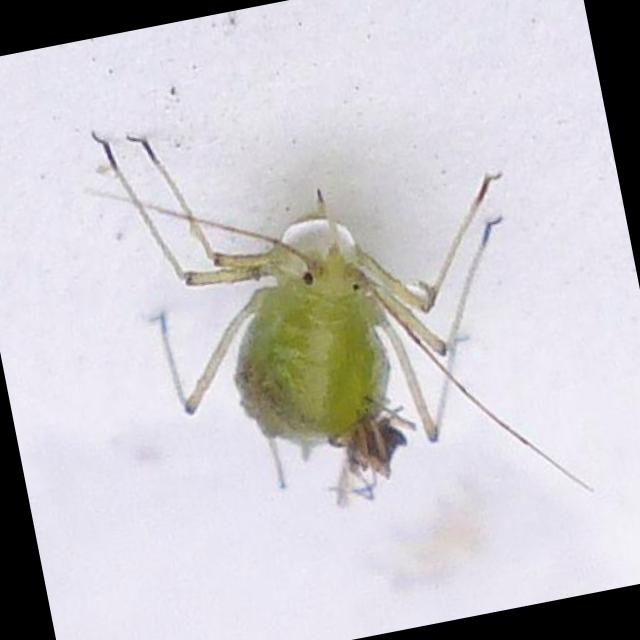Aphids: (80, 49, 564, 566)
